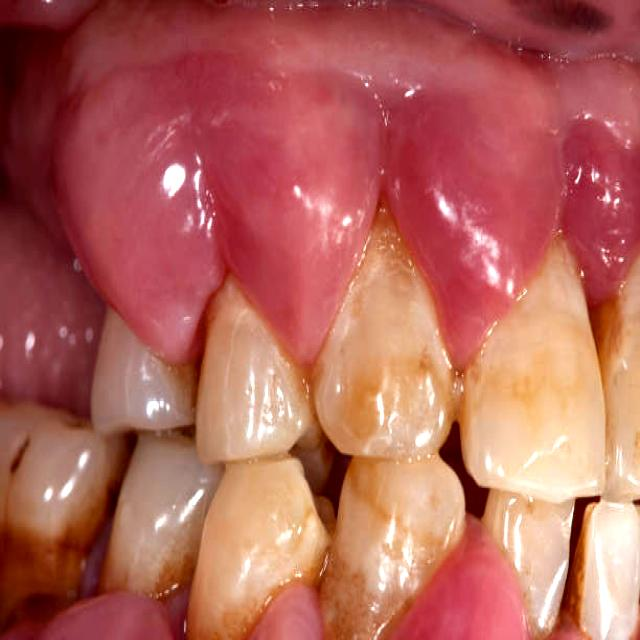calculus: (313, 209, 440, 378), (320, 549, 398, 638), (0, 538, 90, 595), (148, 541, 199, 599), (566, 524, 584, 624)
gingivitis: (67, 93, 634, 306)
